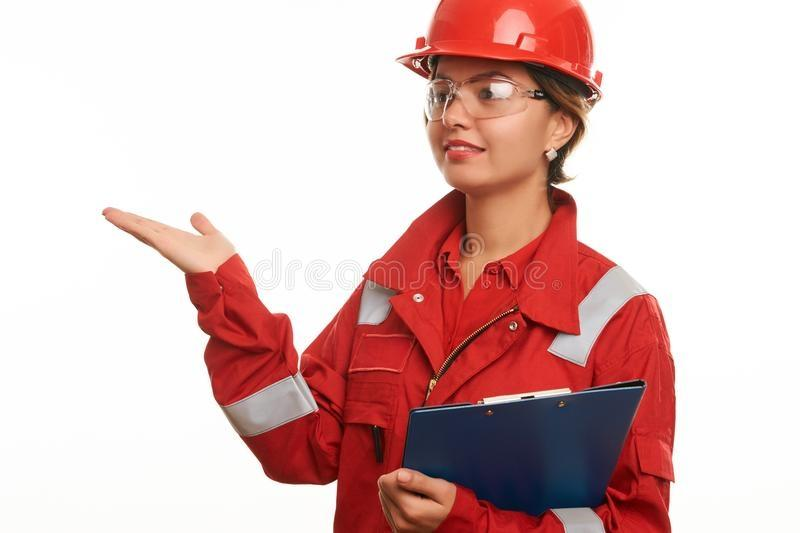helmet: (392, 0, 628, 98)
wear: (321, 227, 677, 533)
